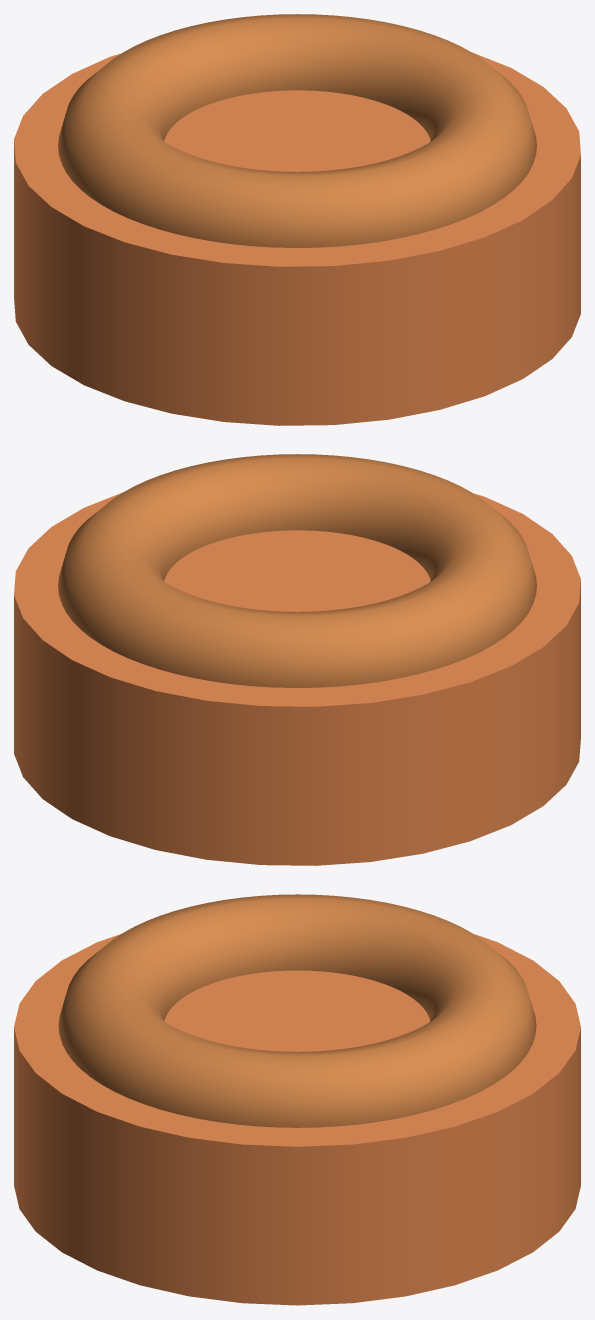
The model's file is round-prototype.glb.
3 renders of one model, top to bottom at view 1: azimuth 30°, elevation 25°; view 2: azimuth 150°, elevation 25°; view 3: azimuth 270°, elevation 25°, orthographic.
Visible parts, largest first — view 1: round-prototype; view 2: round-prototype; view 3: round-prototype.
Boxes of the visible parts, x1,y1,x2,y2 form: round-prototype: (14,14,580,425); round-prototype: (14,454,580,865); round-prototype: (14,894,580,1305).
Bounding box in the file's own units: 0.204 × 0.0825 × 0.204.
